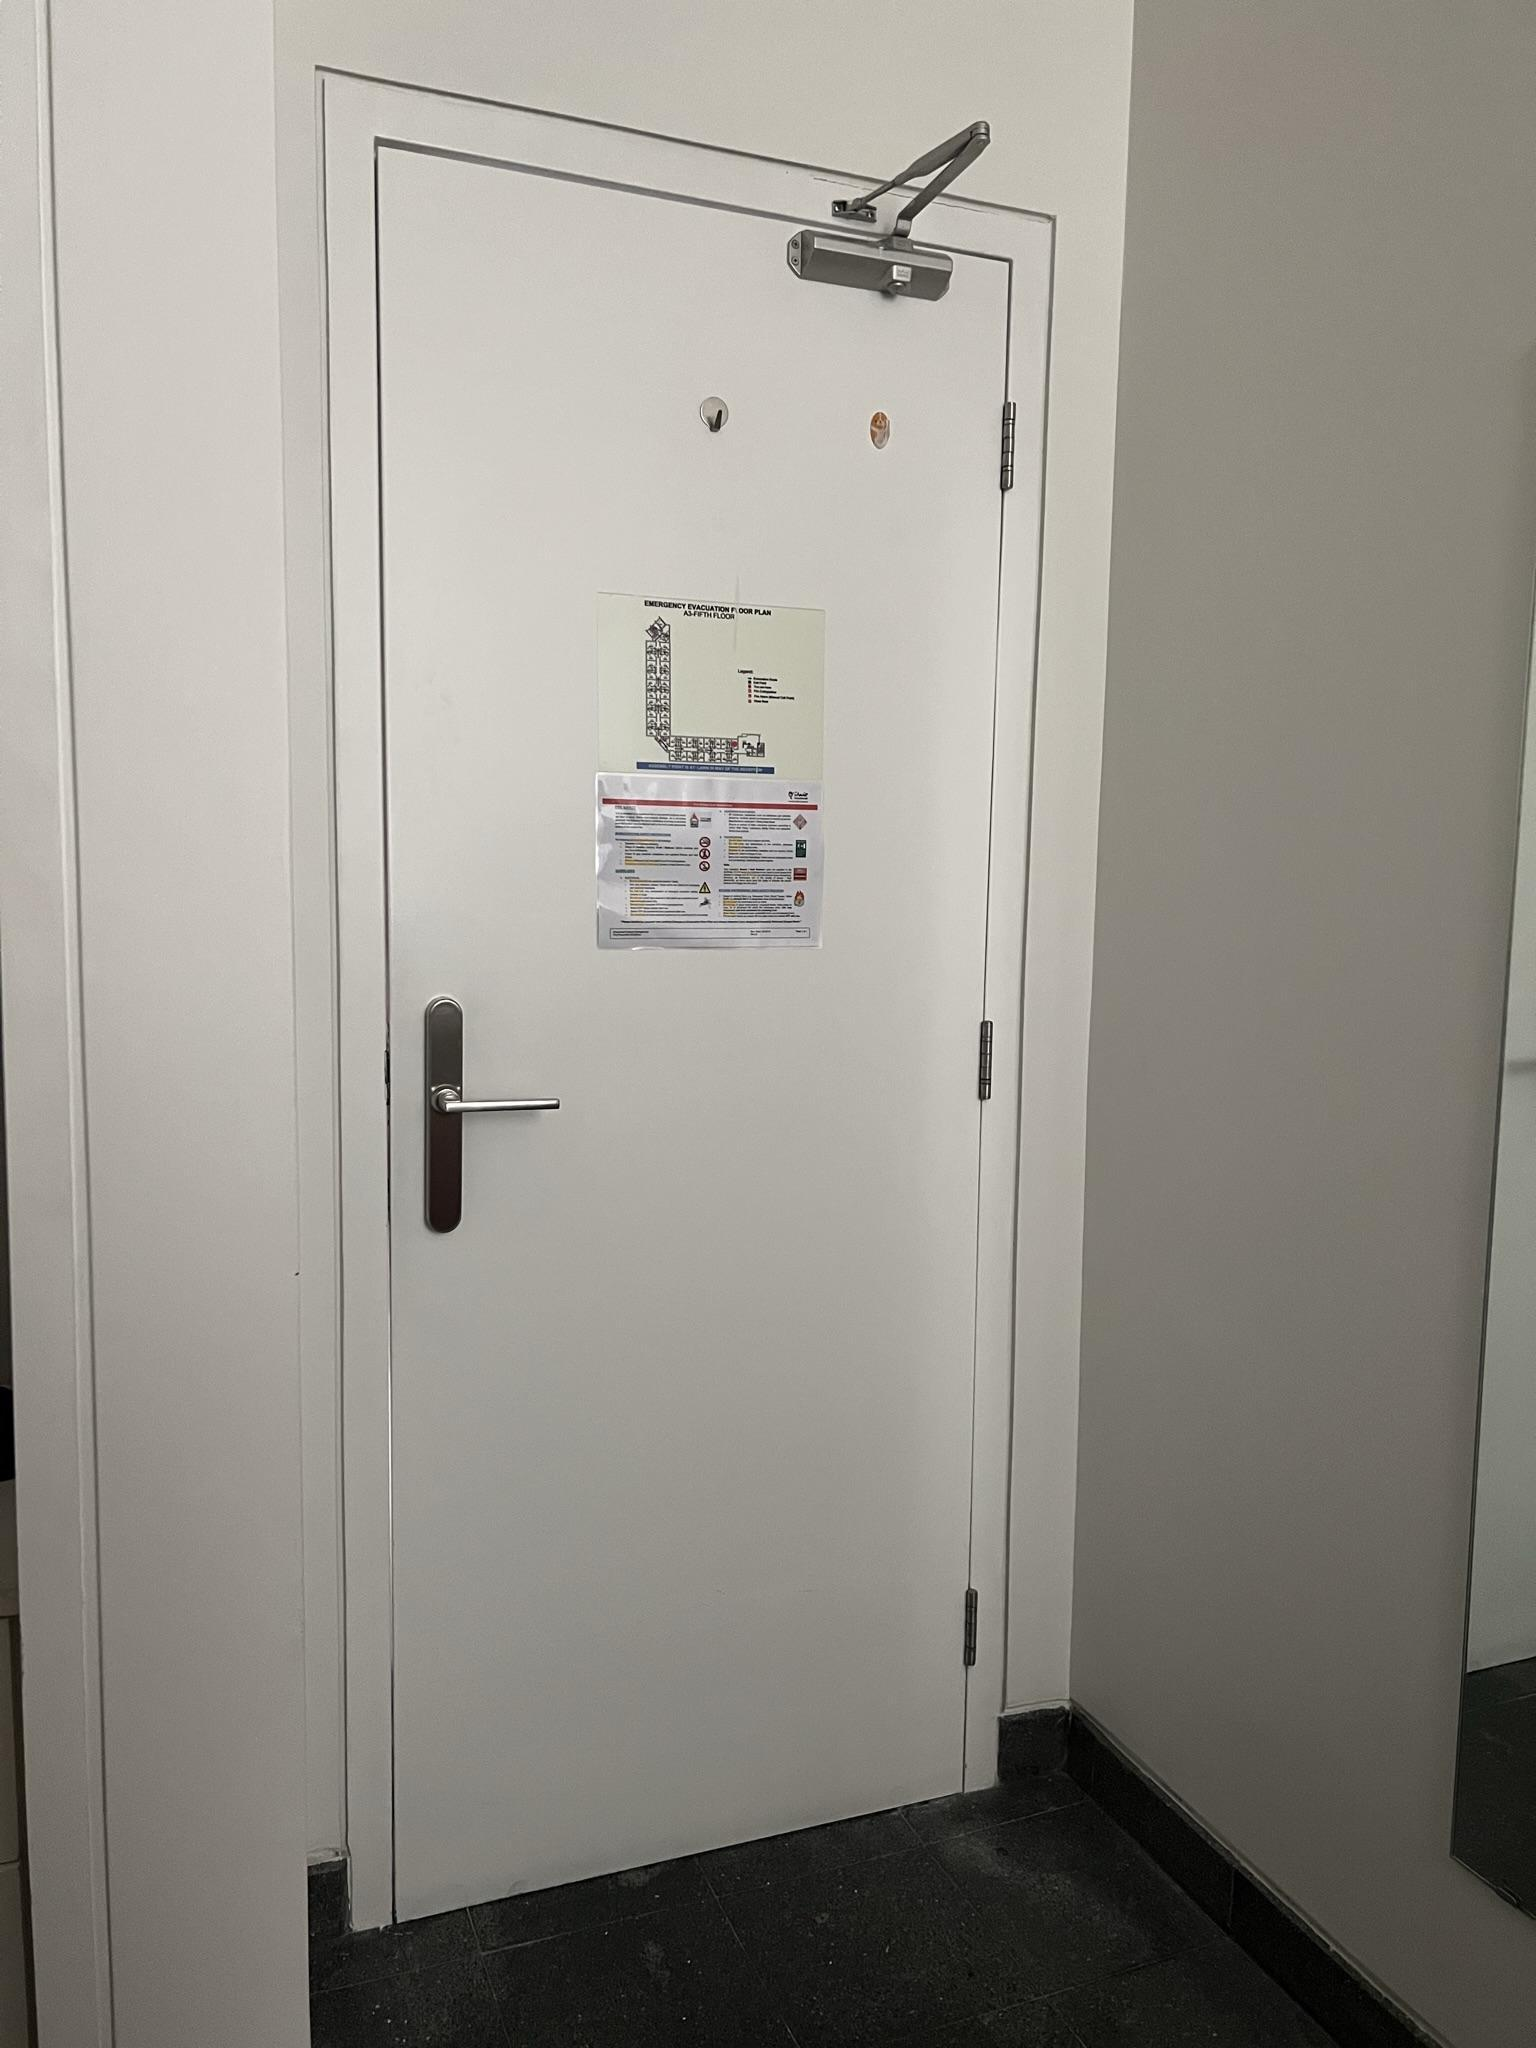door: (377, 121, 989, 1907)
handle: (418, 994, 560, 1239)
